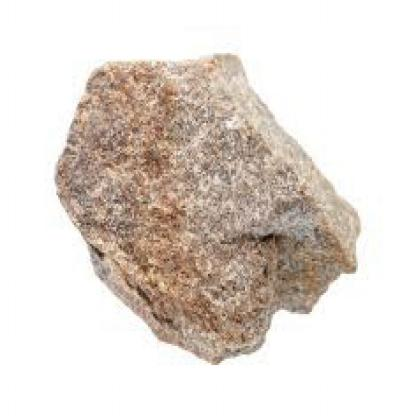Metamorphic_Quartize: (42, 47, 372, 361)
